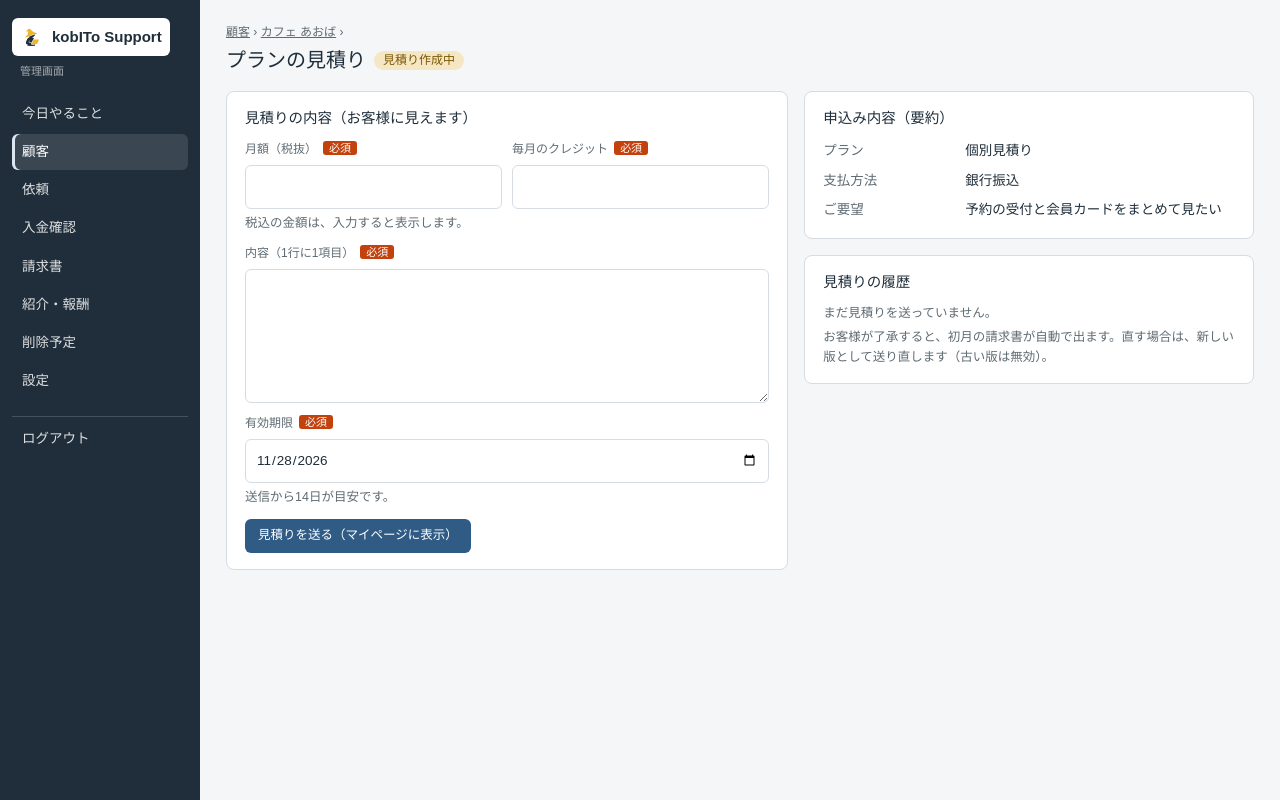
Test case: a04-2 make a plan quote › shows the tax-inclusive amount (floor rule) as the price is typed
In the field labelled "月額（税抜）必須": (374, 187) [245,165,502,209], type "12345"
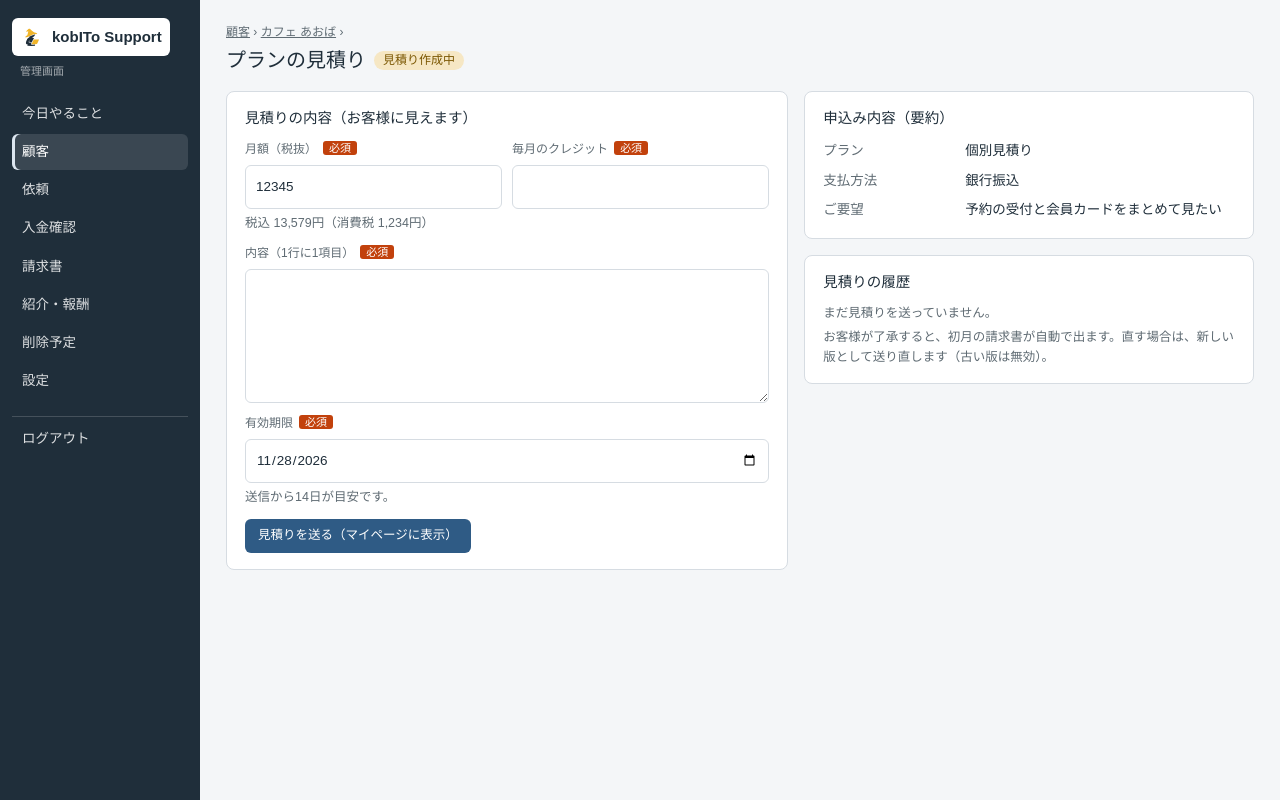
Result: the text "税込 13,579円（消費税 1,234円）" is shown at [245,216,434,230]
